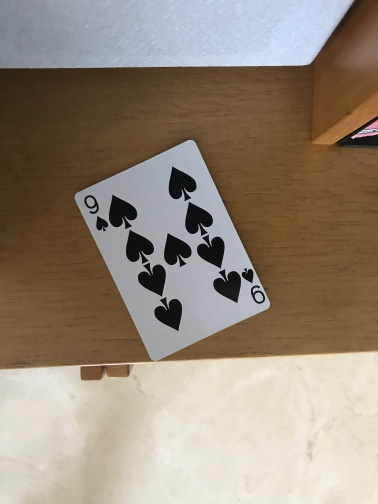nine: (73, 139, 271, 362)
